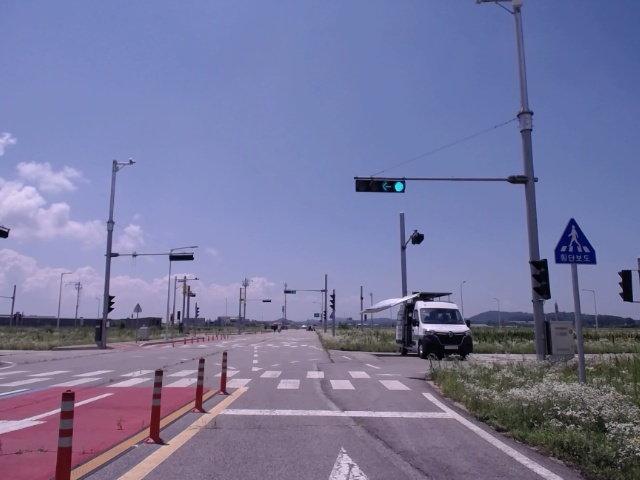all_green_4: (355, 177, 402, 196)
